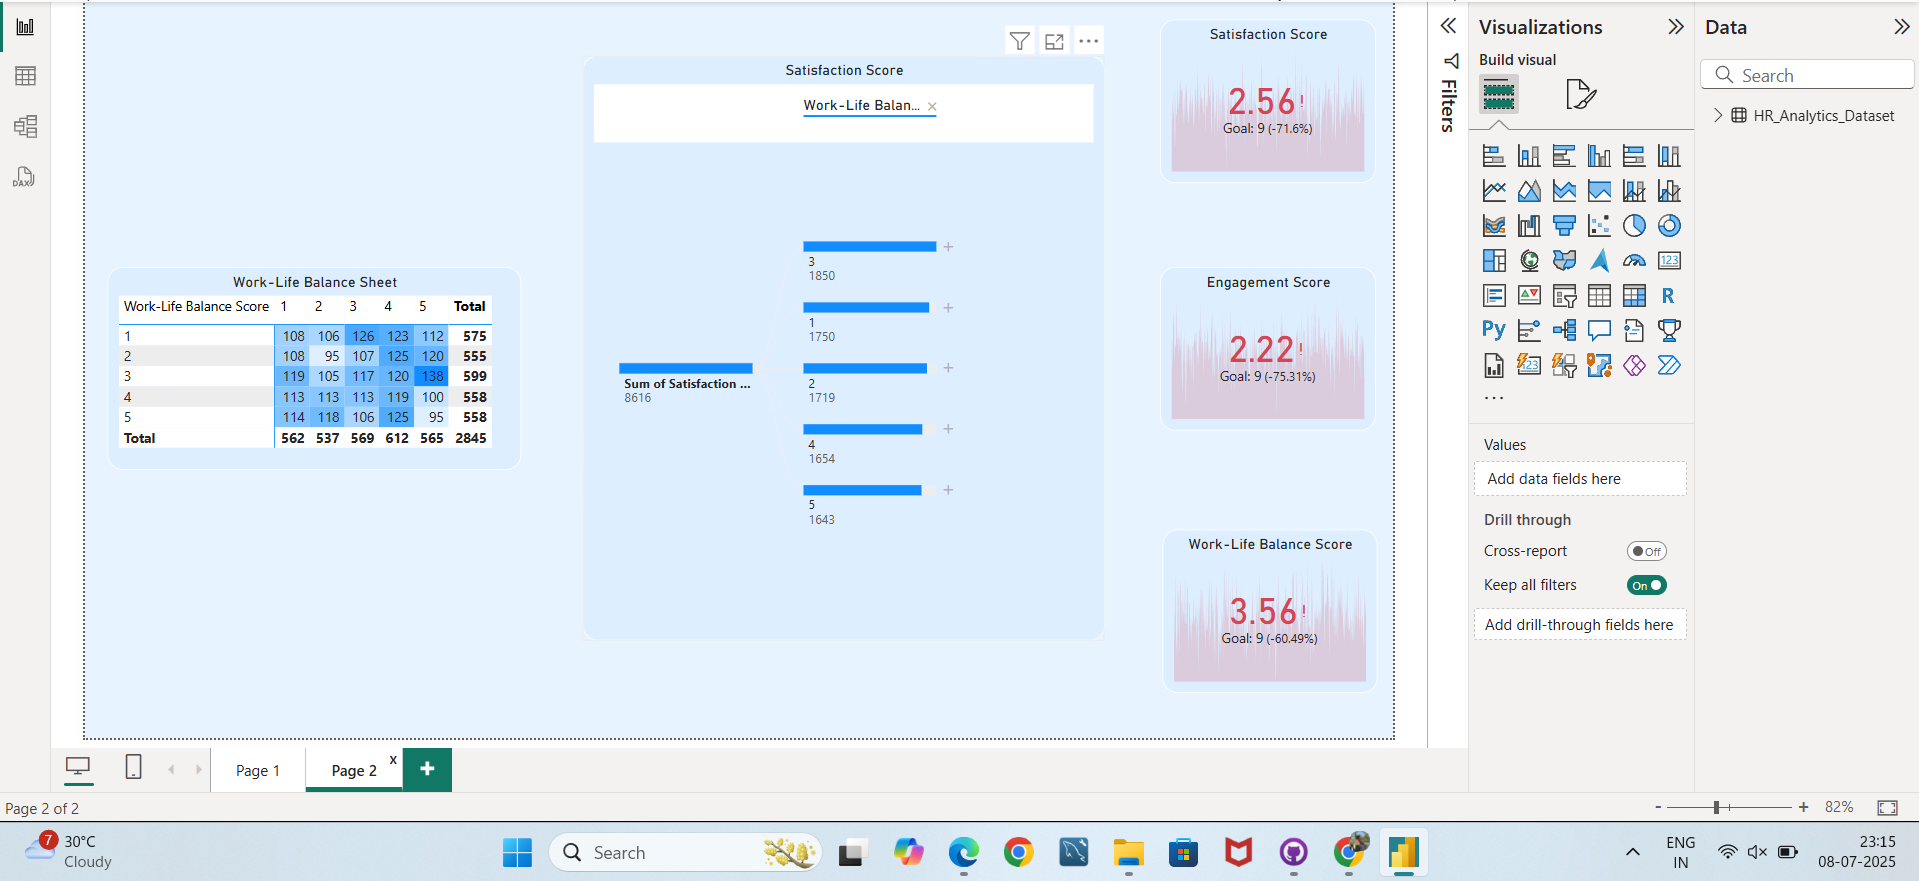

This screenshot's page, from the dashboard's own definition file:
{"tool":"powerbi","page":{"name":"Page 2","canvas":[1280,720],"ordinal":1},"visuals":[{"type":"decompositionTreeVisual","title":"Satisfaction Score","fields":{"Analyze":["Sum(HR_Analytics_Dataset.Satisfaction Score)"],"ExplainBy":["HR_Analytics_Dataset.Work-Life Balance Score","HR_Analytics_Dataset.Training Outcome","HR_Analytics_Dataset.DepartmentType"]},"box":[486.7,52.6,511.1,572.3],"z":0},{"type":"pivotTable","title":"Work-Life Balance Sheet","fields":{"Values":["CountNonNull(HR_Analytics_Dataset.Employee ID)"],"Columns":["HR_Analytics_Dataset.Satisfaction Score"],"Rows":["HR_Analytics_Dataset.Work-Life Balance Score"]},"box":[22,259.2,404.8,198.1],"z":1000},{"type":"kpi","title":"Satisfaction Score","fields":{"Indicator":["Avg(HR_Analytics_Dataset.Satisfaction Score)"],"TrendLine":["HR_Analytics_Dataset.Survey Date"],"Goal":["CountNonNull(HR_Analytics_Dataset.StartDate)"]},"box":[1051.2,17.5,211.2,160],"z":2000},{"type":"kpi","title":"Engagement Score","fields":{"Indicator":["Avg(HR_Analytics_Dataset.Engagement Score)"],"Goal":["CountNonNull(HR_Analytics_Dataset.StartDate)"],"TrendLine":["HR_Analytics_Dataset.Survey Date"]},"box":[1051.2,258.8,211.2,160],"z":3000},{"type":"kpi","title":"Work-Life Balance Score","fields":{"Indicator":["Avg(HR_Analytics_Dataset.Work-Life Balance Score)"],"TrendLine":["HR_Analytics_Dataset.Survey Date"],"Goal":["CountNonNull(HR_Analytics_Dataset.StartDate)"]},"box":[1053.8,516.2,210,160],"z":4000}]}

Visuals, with their boxes on the page's 1280x720 design canvas (x1, y1, x2, y2). These are canvas units, not pixel positions in the 1919x881 screenshot, which may show the page scaled, cropped or inside an application window:
"Satisfaction Score" decompositionTreeVisual: (left=487, top=53, right=998, bottom=625)
"Work-Life Balance Sheet" pivotTable: (left=22, top=259, right=427, bottom=457)
"Satisfaction Score" kpi: (left=1051, top=18, right=1262, bottom=178)
"Engagement Score" kpi: (left=1051, top=259, right=1262, bottom=419)
"Work-Life Balance Score" kpi: (left=1054, top=516, right=1264, bottom=676)
